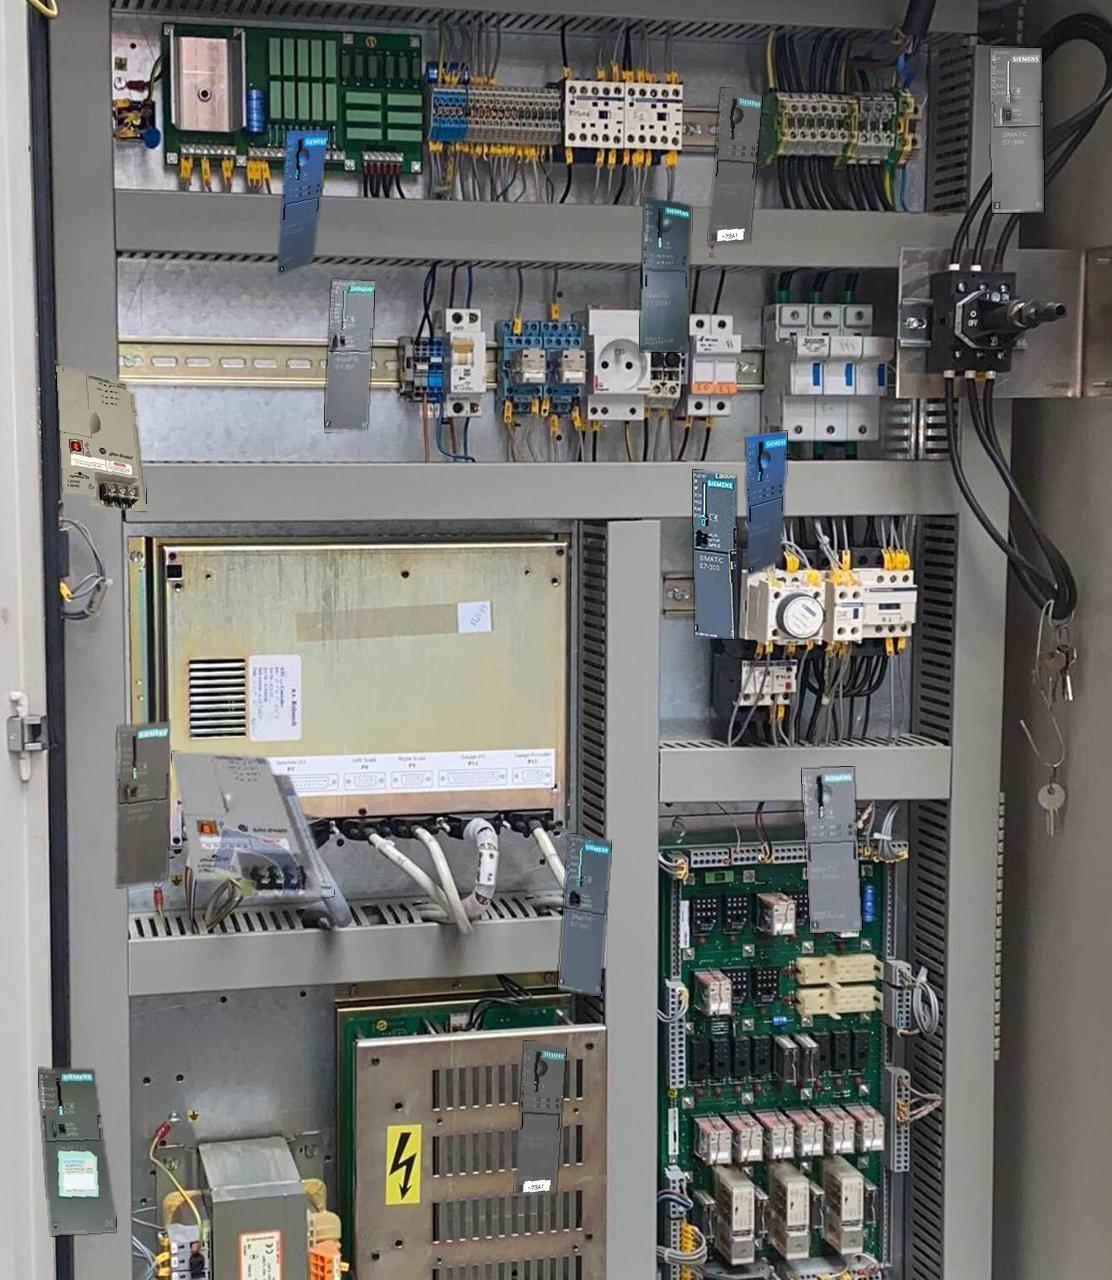AllenBradley: (171, 751, 334, 896), (55, 365, 146, 510)
Siemens: (38, 1068, 116, 1235), (116, 721, 169, 886), (991, 48, 1043, 212), (558, 834, 610, 995), (324, 280, 374, 431), (693, 470, 736, 638)
